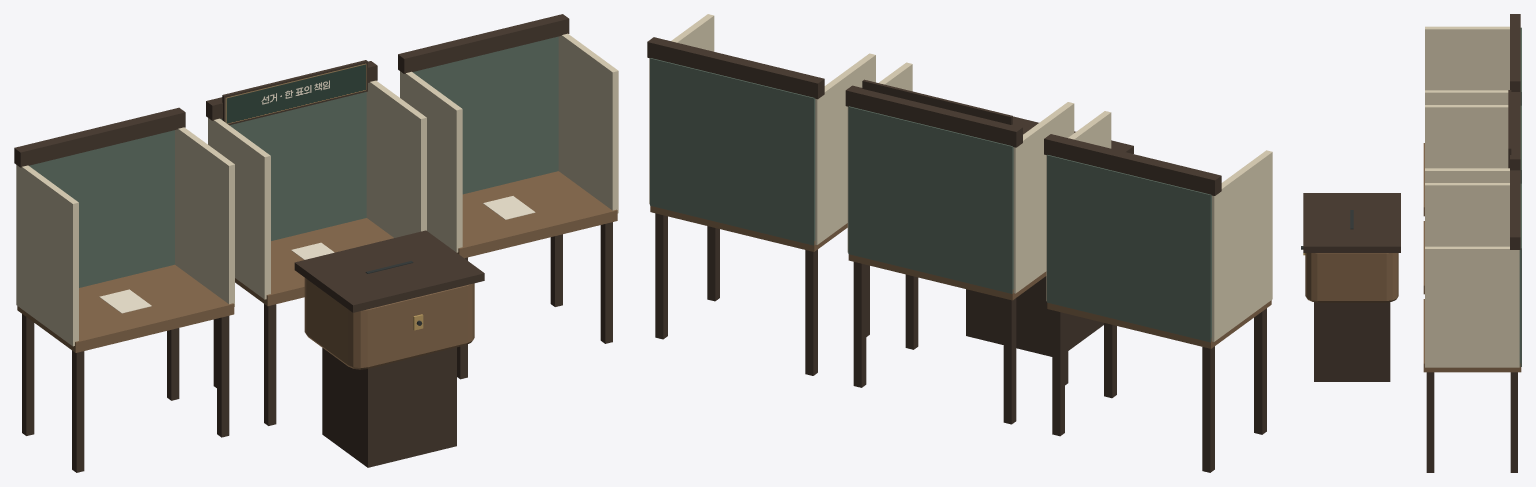
Rendered from 08_Election_Practice_Station.fbx.
3 views of the same model, side by side, from view 1: azimuth 30°, elevation 25°; view 2: azimuth 150°, elevation 25°; view 3: azimuth 270°, elevation 25° (orthographic). The views are drawn at different scales.
Parts seen in each view (by area): view 1: 08_Election_Practice_Station, 08_Election_Practice_Station__Ballot_Chest, 08_Election_Practice_Station__Structure; view 2: 08_Election_Practice_Station, 08_Election_Practice_Station__Ballot_Chest, 08_Election_Practice_Station__Structure; view 3: 08_Election_Practice_Station, 08_Election_Practice_Station__Ballot_Chest, 08_Election_Practice_Station__Structure.
Boxes of the visible parts, x1,y1,x2,y2 form: 08_Election_Practice_Station: (14, 14, 618, 472); 08_Election_Practice_Station__Ballot_Chest: (294, 230, 484, 467); 08_Election_Practice_Station__Structure: (222, 60, 367, 125); 08_Election_Practice_Station: (647, 14, 1272, 472); 08_Election_Practice_Station__Ballot_Chest: (966, 116, 1133, 356); 08_Election_Practice_Station__Structure: (862, 79, 1012, 124); 08_Election_Practice_Station: (1423, 14, 1521, 472); 08_Election_Practice_Station__Ballot_Chest: (1301, 193, 1400, 381); 08_Election_Practice_Station__Structure: (1508, 90, 1511, 168).
Size of the model in its own units: 492 by 251 by 205.
Materials: 2 (2 with a texture image).
